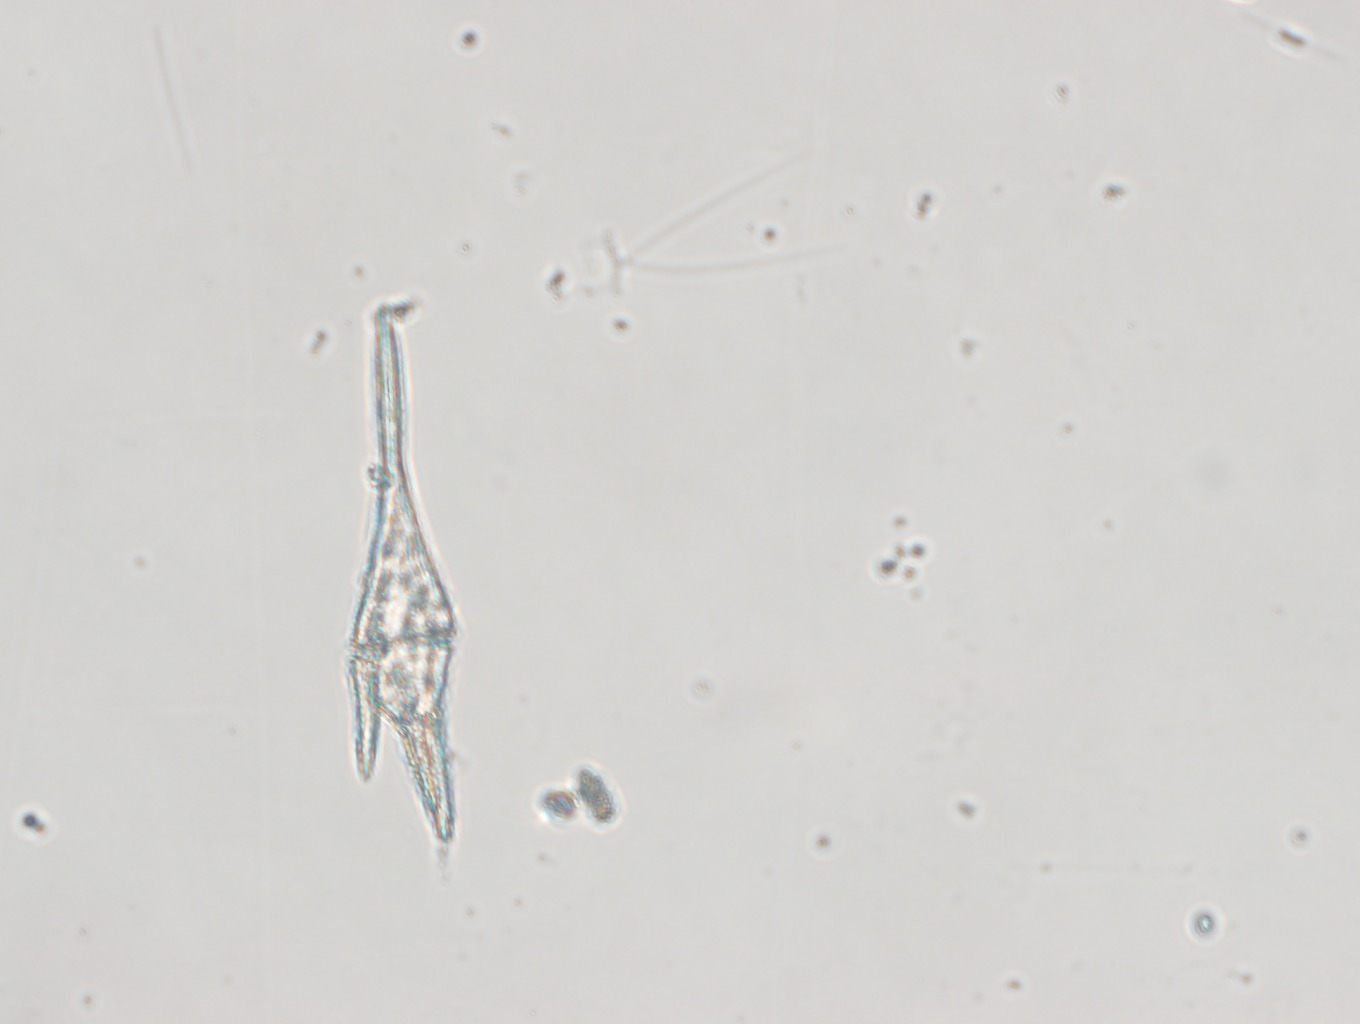ceratium furca: (347, 308, 458, 845)
